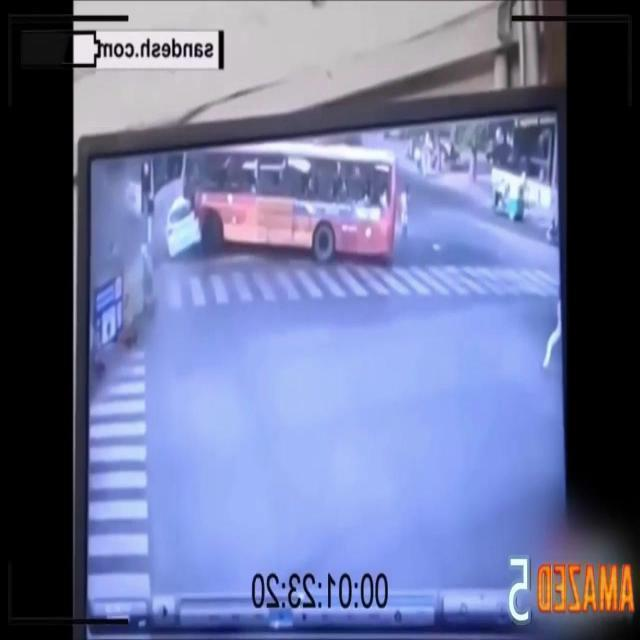accident: (163, 136, 405, 264)
